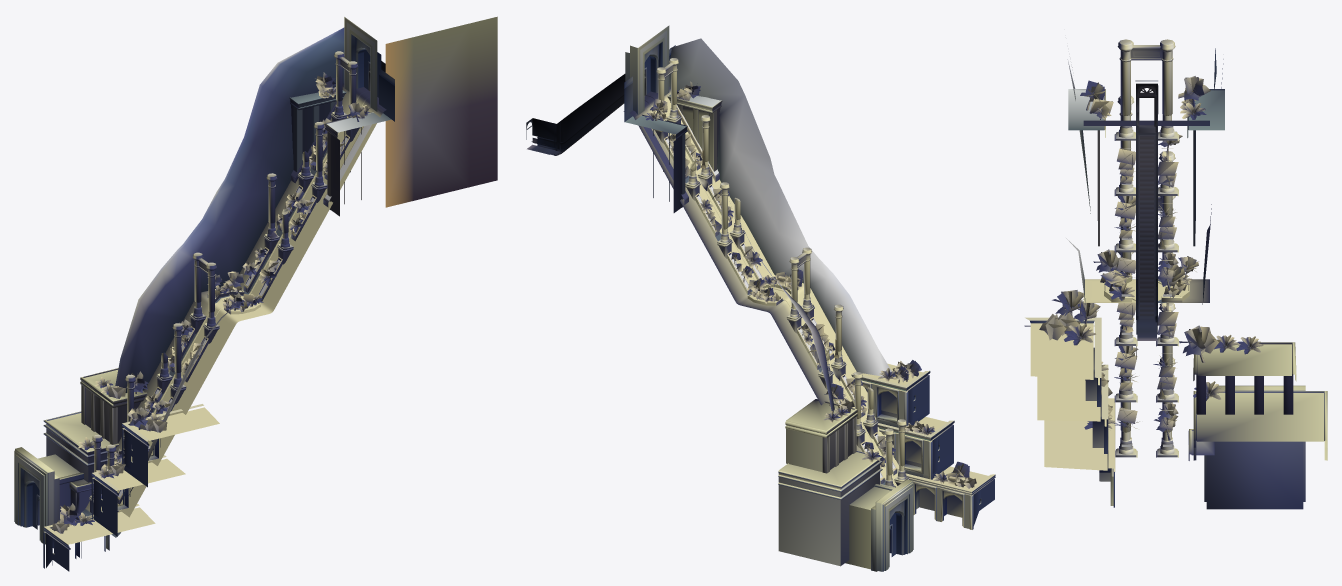
The model's file is 05Slope.gltf.
3 renders of one model, left to right at view 1: azimuth 30°, elevation 25°; view 2: azimuth 150°, elevation 25°; view 3: azimuth 270°, elevation 25°, orthographic. The views are drawn at different scales.
Visible parts, largest first — view 1: stg013_o03_Mesh_0009.001, stg013_o03_Mesh_0002.001, stg013_o03_Mesh_0012.001, stg013_o03_Mesh_0013.001, stg013_o21_Mesh_0007.001, stg013_o03_Mesh_0003.001, stg013_o03_Mesh_0006.001, stg013_o03_Mesh_0001.001, stg013_p21_Mesh_0000.001, stg013_p21_Mesh_0002.001, stg013_o03_Mesh_0015.001, stg013_o21_Mesh_0002.001 (+3 smaller); view 2: stg013_o03_Mesh_0002.001, stg013_o03_Mesh_0013.001, stg013_o03_Mesh_0009.001, stg013_o03_Mesh_0012.001, stg013_o03_Mesh_0003.001, stg013_o03_Mesh_0006.001, stg013_o21_Mesh_0007.001, stg013_o03_Mesh_0001.001, stg013_o21_Mesh_0002.001, stg013_o03_Mesh_0011.001, stg013_p21_Mesh_0000.001, stg013_p21_Mesh_0002.001 (+5 smaller); view 3: stg013_o21_Mesh_0007.001, stg013_o03_Mesh_0009.001, stg013_p21_Mesh_0002.001, stg013_p21_Mesh_0000.001, stg013_o03_Mesh_0006.001, stg013_p21_Mesh_0001.001, stg013_o05_Mesh_0011.002, stg013_o03_Mesh_0013.001, stg013_o03_Mesh_0001.001, stg013_o03_Mesh_0012.001, stg013_o03_Mesh_0015.001, stg013_o03_Mesh_0018.001 (+6 smaller).
Part boxes in pixels (bbox=[...]): stg013_o03_Mesh_0009.001: bbox=[14, 16, 497, 568]; stg013_o03_Mesh_0002.001: bbox=[115, 27, 344, 494]; stg013_o03_Mesh_0012.001: bbox=[38, 83, 386, 535]; stg013_o03_Mesh_0013.001: bbox=[46, 50, 381, 531]; stg013_o21_Mesh_0007.001: bbox=[48, 90, 391, 543]; stg013_o03_Mesh_0003.001: bbox=[16, 37, 370, 528]; stg013_o03_Mesh_0006.001: bbox=[14, 19, 376, 546]; stg013_o03_Mesh_0001.001: bbox=[24, 47, 394, 552]; stg013_p21_Mesh_0000.001: bbox=[60, 72, 364, 524]; stg013_p21_Mesh_0002.001: bbox=[52, 107, 364, 533]; stg013_o03_Mesh_0015.001: bbox=[15, 22, 374, 557]; stg013_o21_Mesh_0002.001: bbox=[32, 75, 394, 571]; stg013_o03_Mesh_0002.001: bbox=[669, 38, 891, 412]; stg013_o03_Mesh_0013.001: bbox=[644, 56, 953, 566]; stg013_o03_Mesh_0009.001: bbox=[624, 25, 995, 571]; stg013_o03_Mesh_0012.001: bbox=[623, 87, 899, 510]; stg013_o03_Mesh_0003.001: bbox=[644, 44, 962, 571]; stg013_o03_Mesh_0006.001: bbox=[639, 27, 994, 570]; stg013_o21_Mesh_0007.001: bbox=[625, 94, 988, 488]; stg013_o03_Mesh_0001.001: bbox=[624, 49, 979, 519]; stg013_o21_Mesh_0002.001: bbox=[624, 46, 994, 569]; stg013_o03_Mesh_0011.001: bbox=[664, 66, 969, 528]; stg013_p21_Mesh_0000.001: bbox=[650, 81, 969, 481]; stg013_p21_Mesh_0002.001: bbox=[677, 88, 976, 488]; stg013_o21_Mesh_0007.001: bbox=[1030, 90, 1323, 470]; stg013_o03_Mesh_0009.001: bbox=[1024, 45, 1327, 509]; stg013_p21_Mesh_0002.001: bbox=[1039, 98, 1220, 430]; stg013_p21_Mesh_0000.001: bbox=[1052, 76, 1214, 440]; stg013_o03_Mesh_0006.001: bbox=[1025, 129, 1189, 468]; stg013_p21_Mesh_0001.001: bbox=[1064, 102, 1263, 429]; stg013_o05_Mesh_0011.002: bbox=[1140, 136, 1153, 318]; stg013_o03_Mesh_0013.001: bbox=[1119, 39, 1173, 432]; stg013_o03_Mesh_0001.001: bbox=[1104, 40, 1189, 457]; stg013_o03_Mesh_0012.001: bbox=[1083, 120, 1209, 302]; stg013_o03_Mesh_0015.001: bbox=[1085, 52, 1171, 481]; stg013_o03_Mesh_0018.001: bbox=[1136, 87, 1157, 334].
Bounding box in the file's own units: 206 × 198 × 76.67.
